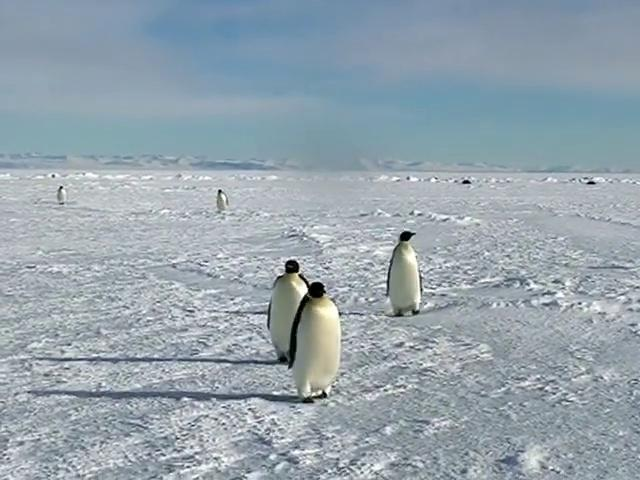animal: (387, 232, 424, 317)
